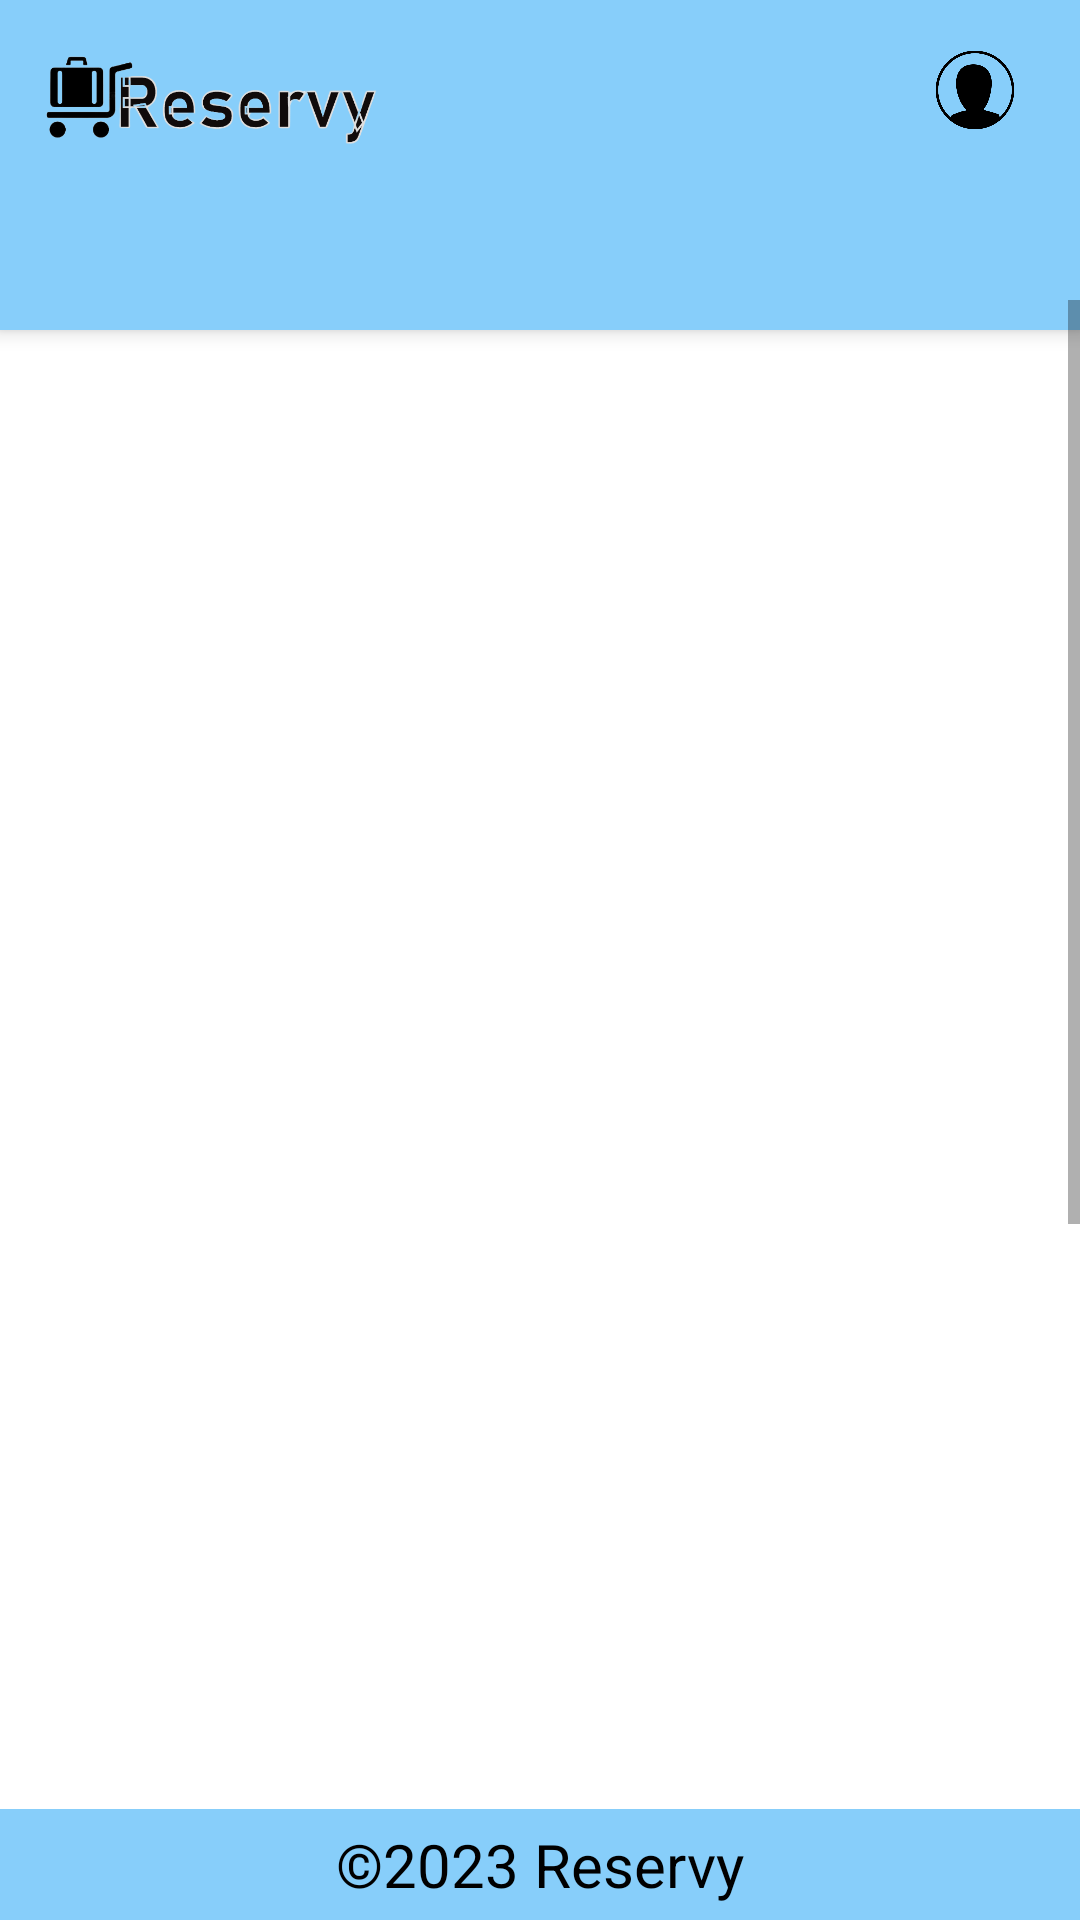

Where icons sit on this 1080w x 1920h app screen, as (x1, y1, x2, y2):
person: (936, 51, 1014, 129)
